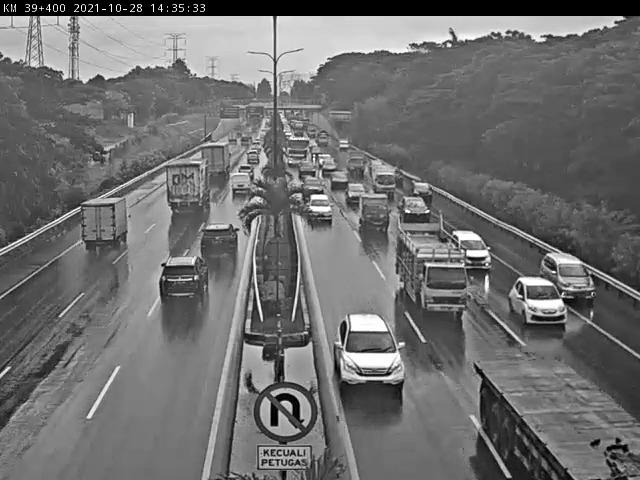big truck: (474, 361, 640, 480), (164, 157, 215, 212), (203, 143, 234, 179), (287, 136, 309, 163)
car: (333, 314, 406, 390), (498, 268, 553, 312), (157, 257, 211, 301), (527, 244, 574, 287), (447, 230, 489, 269), (198, 222, 244, 257), (305, 189, 335, 223), (357, 193, 386, 226), (393, 194, 425, 216), (411, 181, 435, 203), (229, 175, 252, 195), (345, 178, 363, 200), (302, 175, 322, 193), (234, 165, 255, 181), (243, 150, 260, 165), (296, 159, 312, 172), (321, 158, 334, 172), (332, 172, 345, 186), (316, 149, 327, 160)
small truck: (392, 219, 463, 310), (82, 198, 135, 250), (369, 165, 393, 191), (345, 152, 364, 174)
